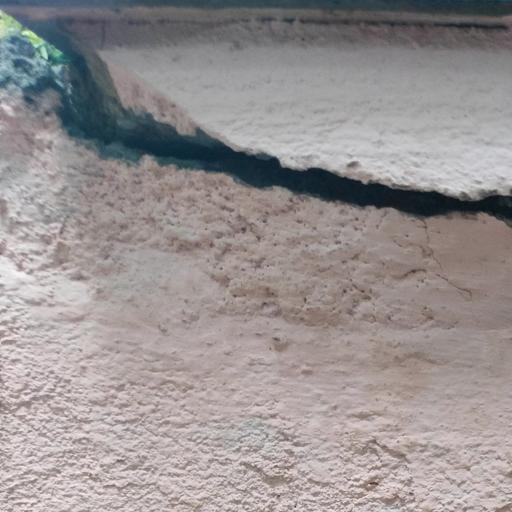major_crack: (0, 0, 512, 233)
